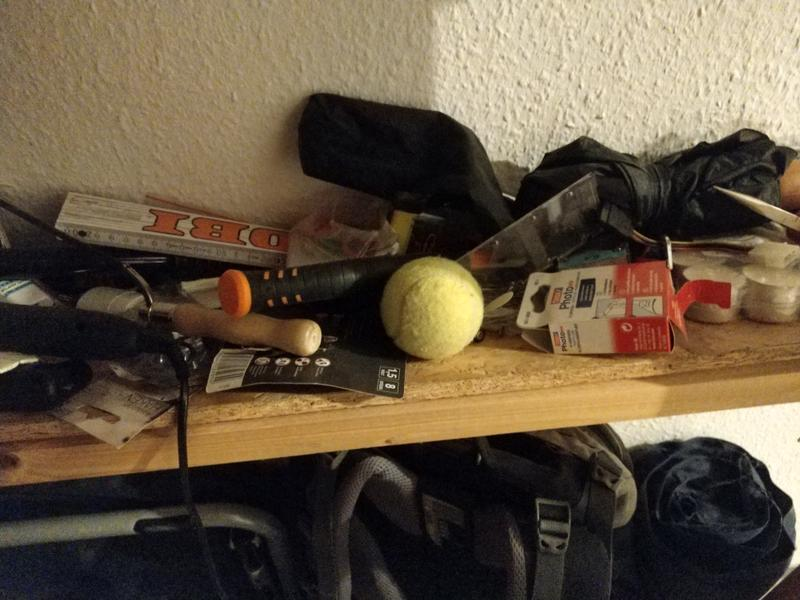Tennisball: (375, 253, 486, 364)
